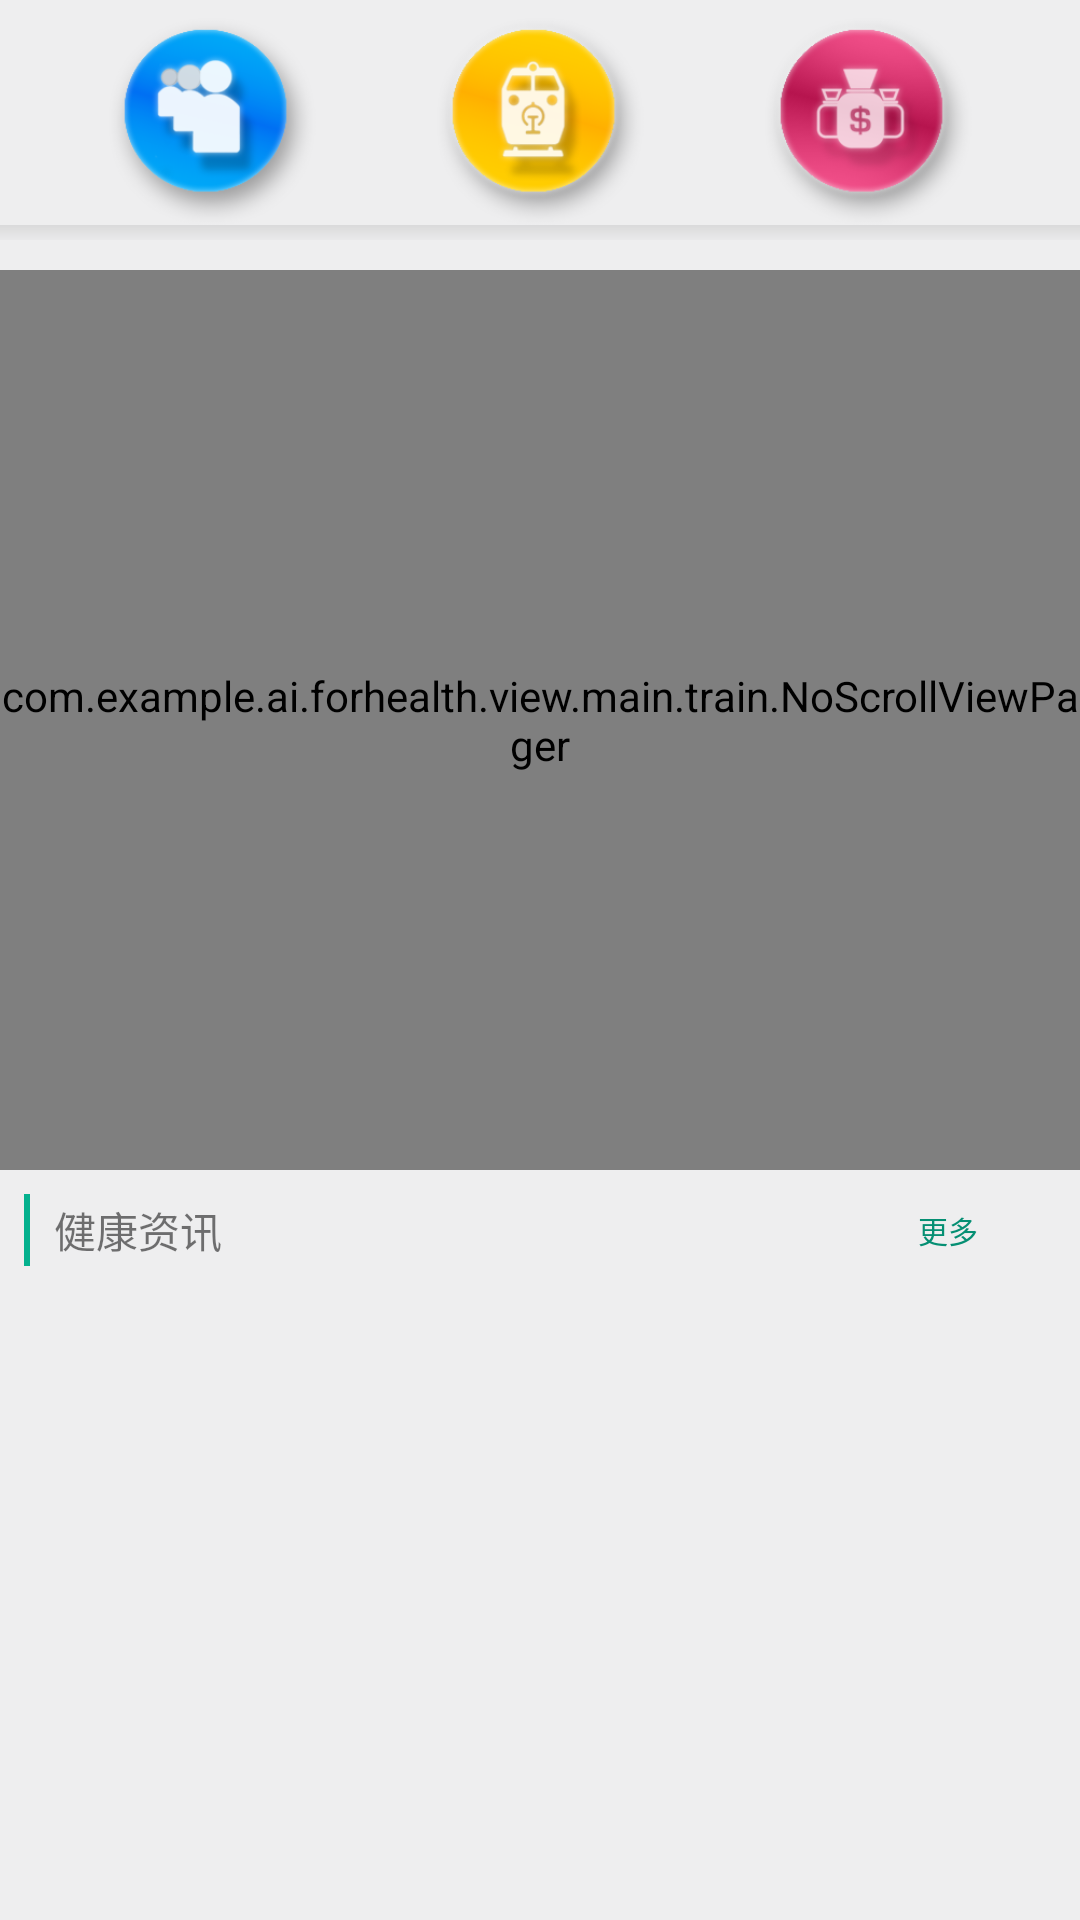

Icon click points for this 1080px x 1920px phone screenshot, format point (x, y):
train price: point (867, 119)
